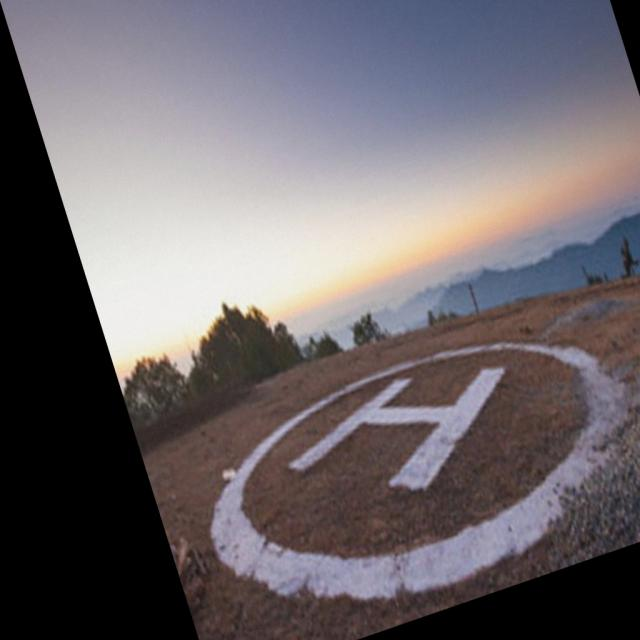helipad: (198, 341, 630, 604)
